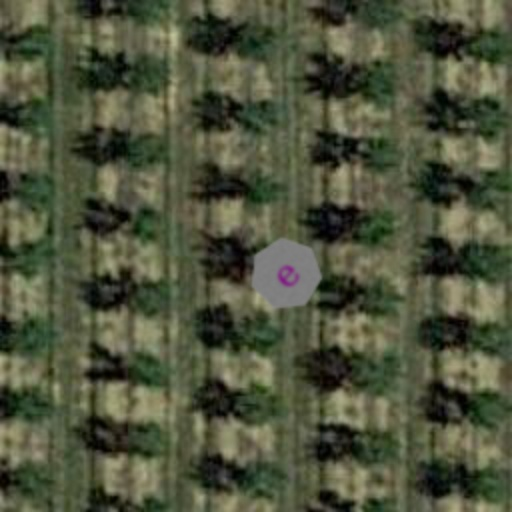heptagon: (234, 222, 338, 326)
